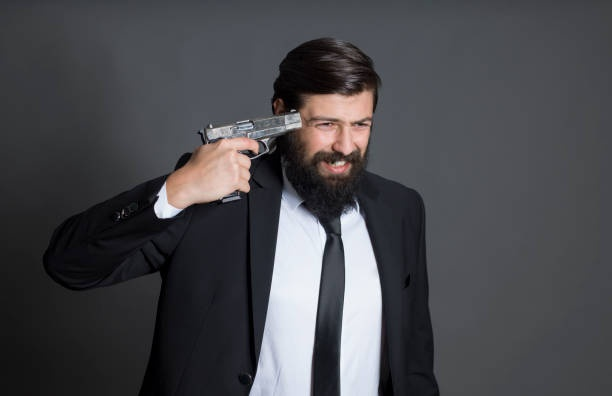person: (130, 35, 443, 396)
pistol: (196, 107, 304, 204)
